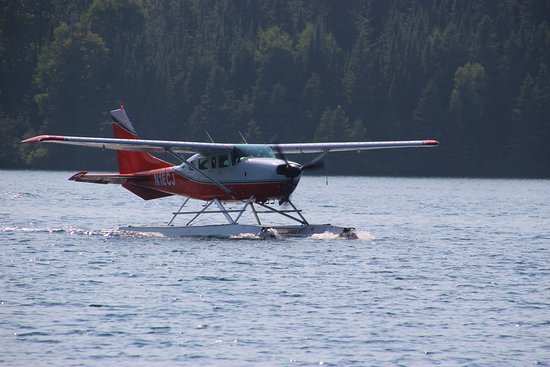Aeronef_de_loisir: (18, 102, 447, 250)
